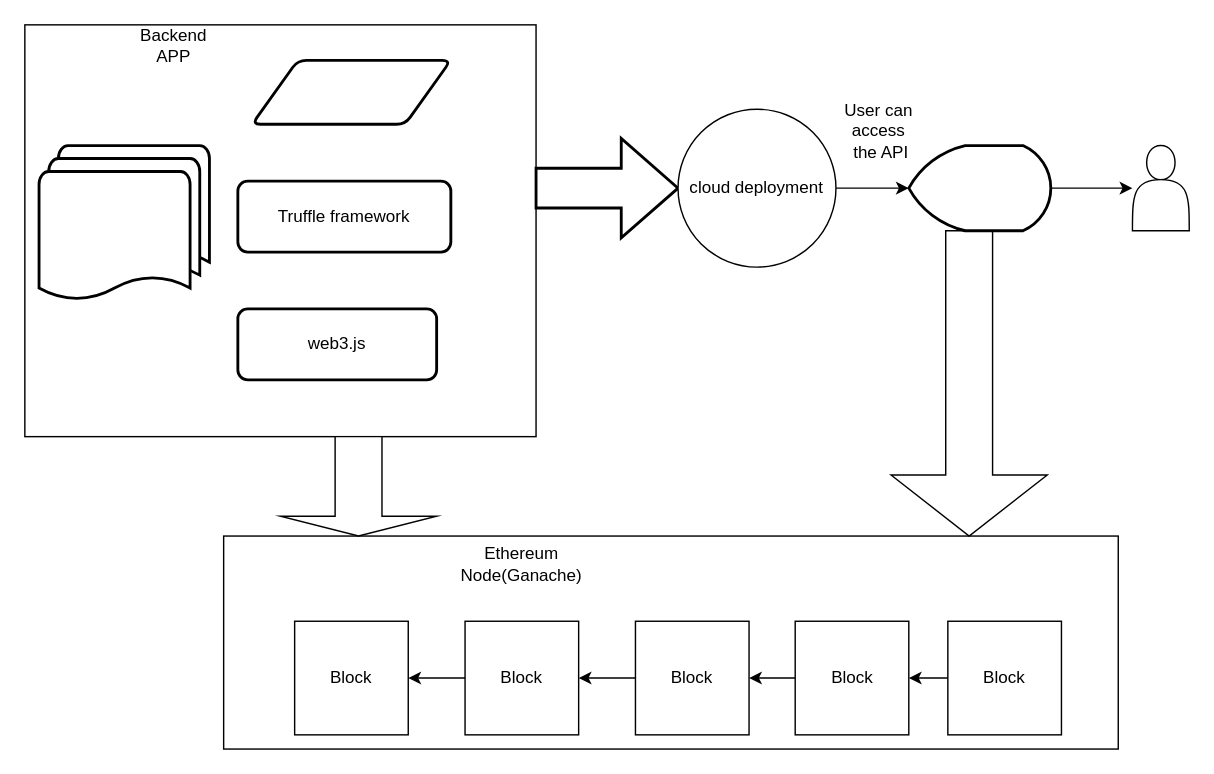
Some shapes in this 1214 by 774 pixel diagram are drawn without their labels. Each missing label, with the centre of its shape:
"After compilation, deploy in cloud as microservice" goes at pixel 606 187.
"Browser or postman to access API" goes at pixel 979 187.
"Code in Nestjs" goes at pixel 351 91.
"Smart contracts" goes at pixel 123 222.
